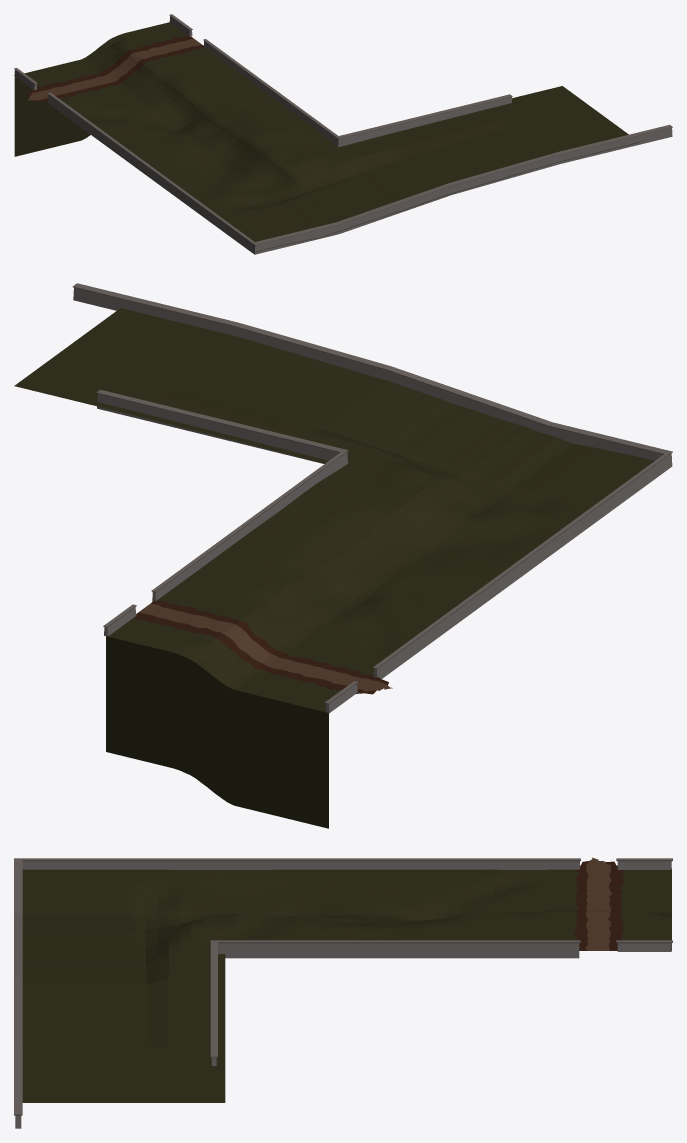
File: church_FAKE.fbx
3 renders of one model, top to bottom at view 1: azimuth 30°, elevation 25°; view 2: azimuth 150°, elevation 25°; view 3: azimuth 270°, elevation 25°, orthographic. The views are drawn at different scales.
Parts seen in each view (by area): view 1: church_FAKE; view 2: church_FAKE; view 3: church_FAKE.
Part boxes in pixels (x1,y1,x2,y2): church_FAKE: (14, 14, 672, 254); church_FAKE: (14, 283, 672, 828); church_FAKE: (14, 857, 672, 1128).
Bounding box in the file's own units: 8777 × 2019 × 8460.
